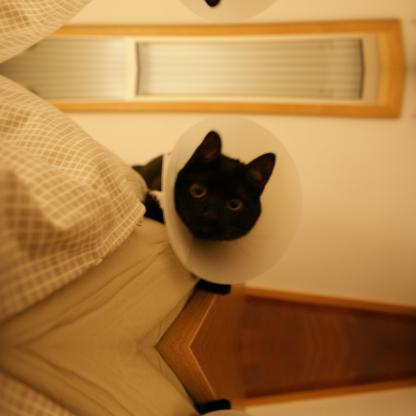Cat: (127, 128, 276, 298)
